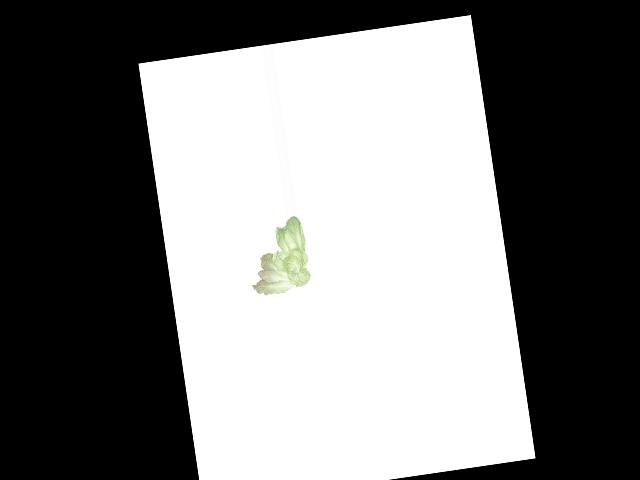lettuce: (239, 214, 316, 299)
